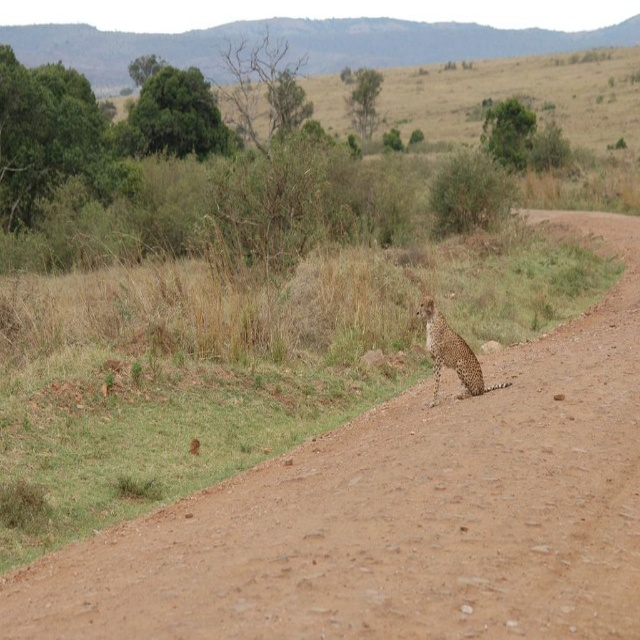Cheetah: (415, 297, 514, 409)
